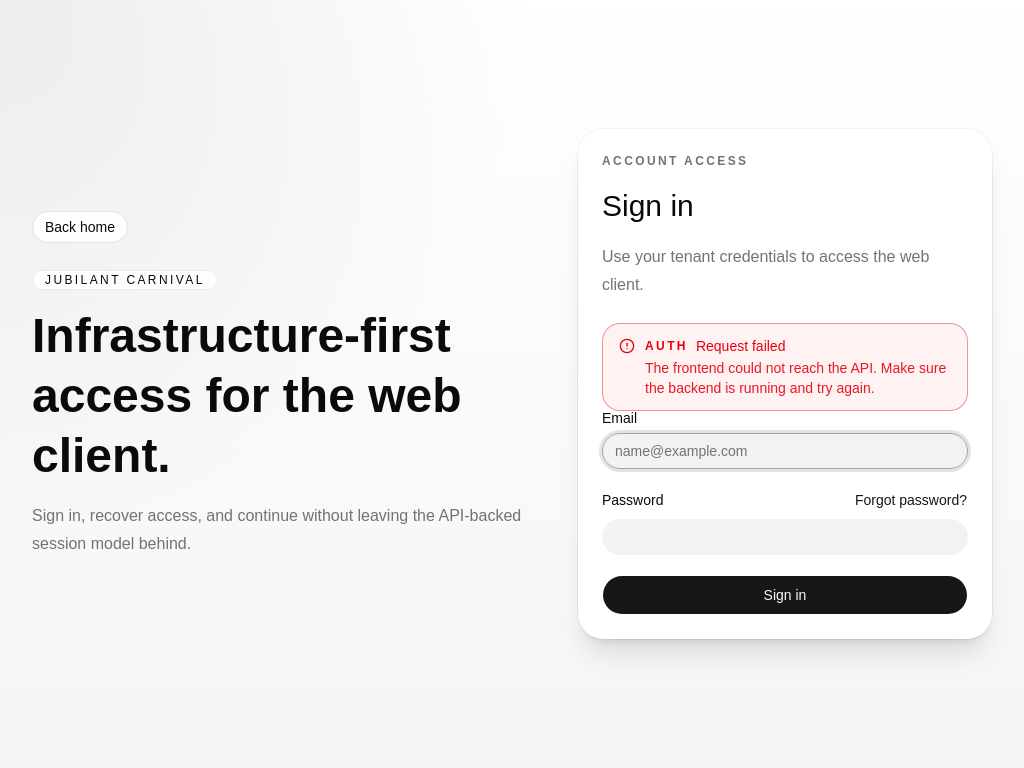
Scenario: /login route integration › shows client validation messages for an empty submit
Step 1. Click the button "Sign in" → (785,595), box [602,575,968,615]
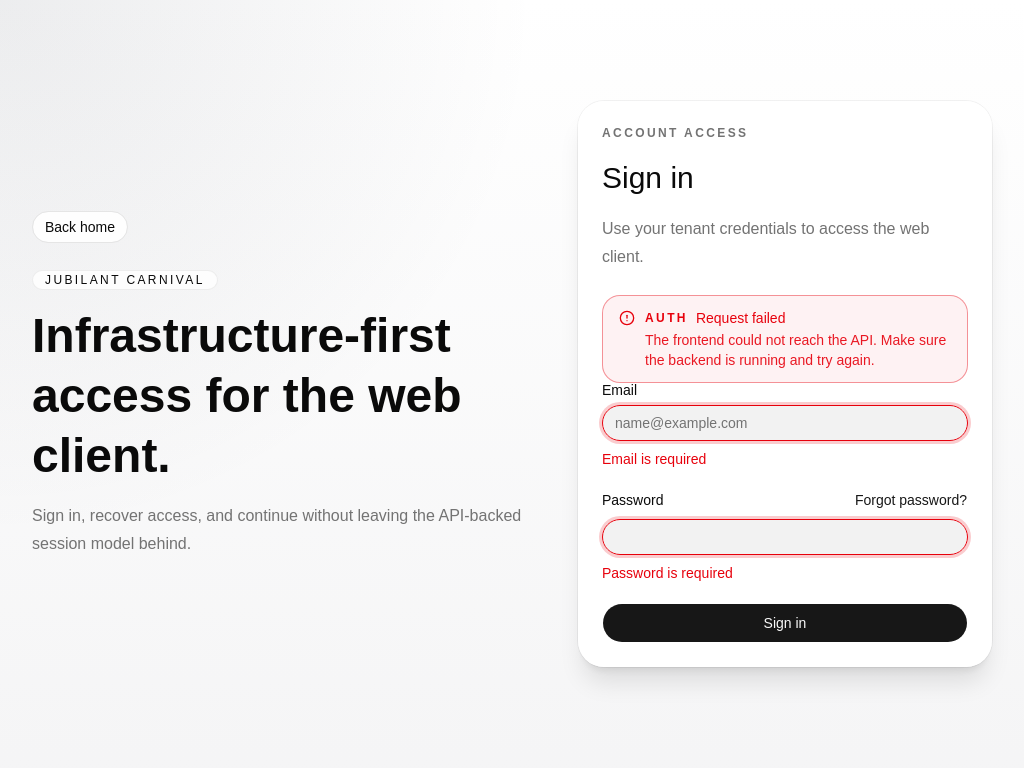
expect the text "Email is required" is shown: met, box [602,451,706,467]
expect the text "Password is required" is shown: met, box [602,565,733,581]
